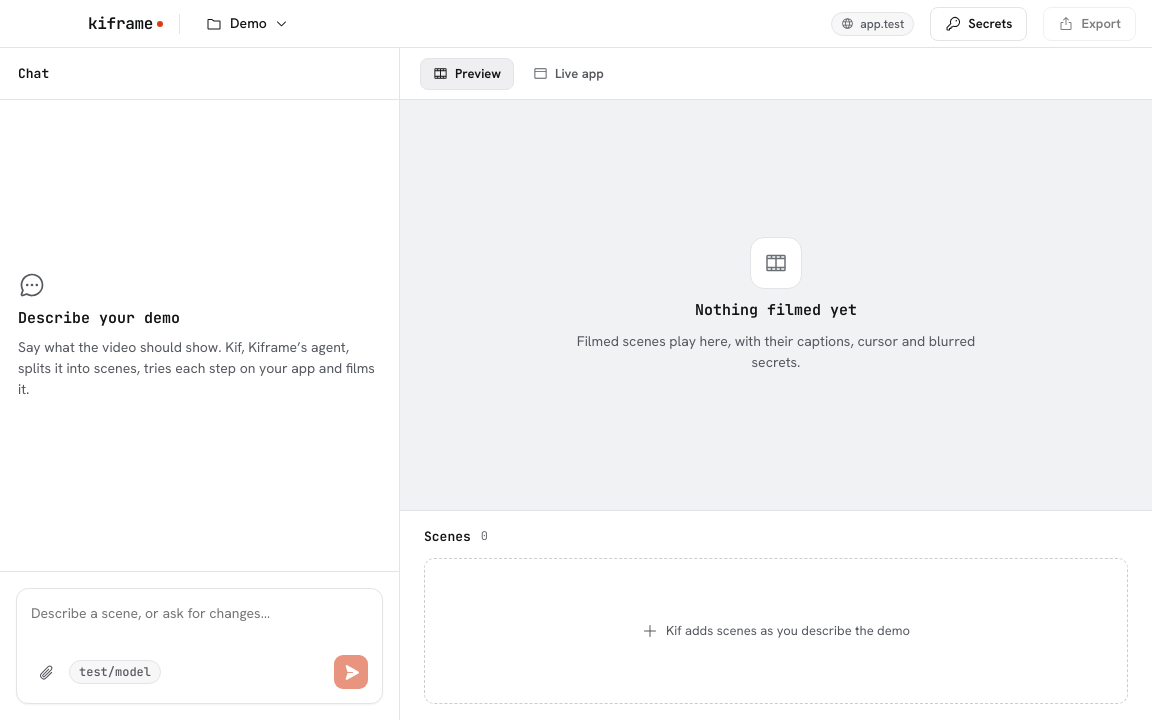
Test: the chat › keeps the message and says why when main refuses it
The width and height of the screenshot is (1152, 720).
Type "again" into the text box named "Message Kif" at x=200, y=624, box [31,603,368,645]
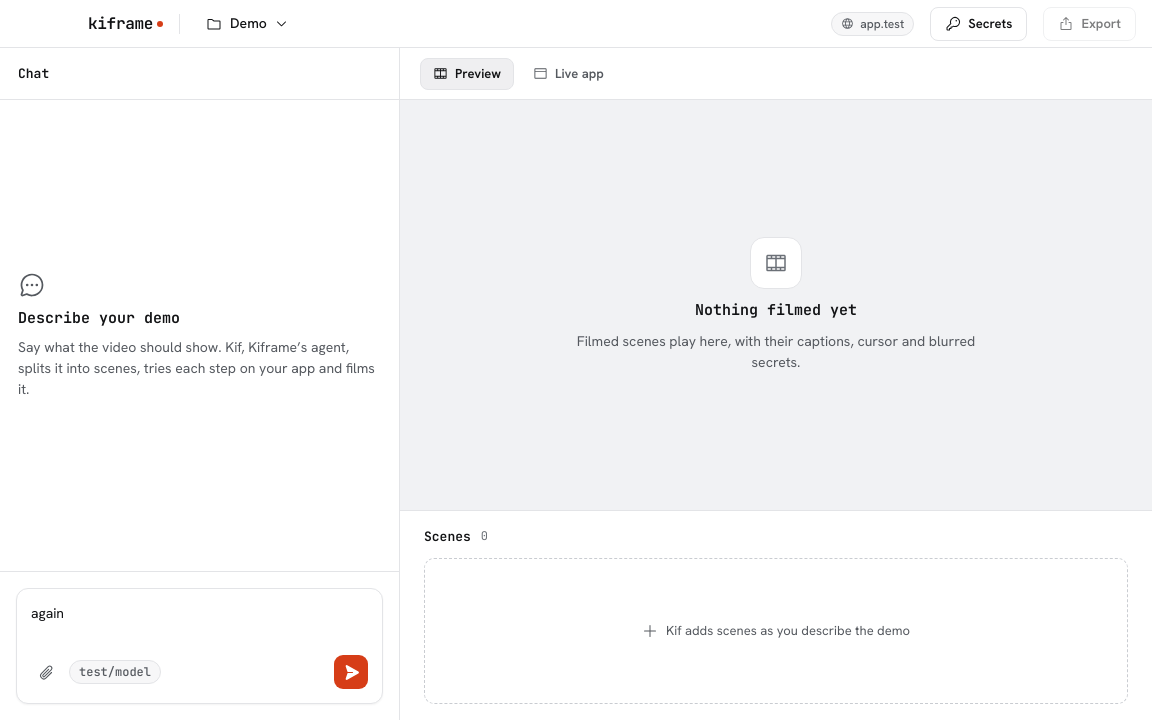
Click the button named "Send" at x=351, y=672, box [334,655,368,689]
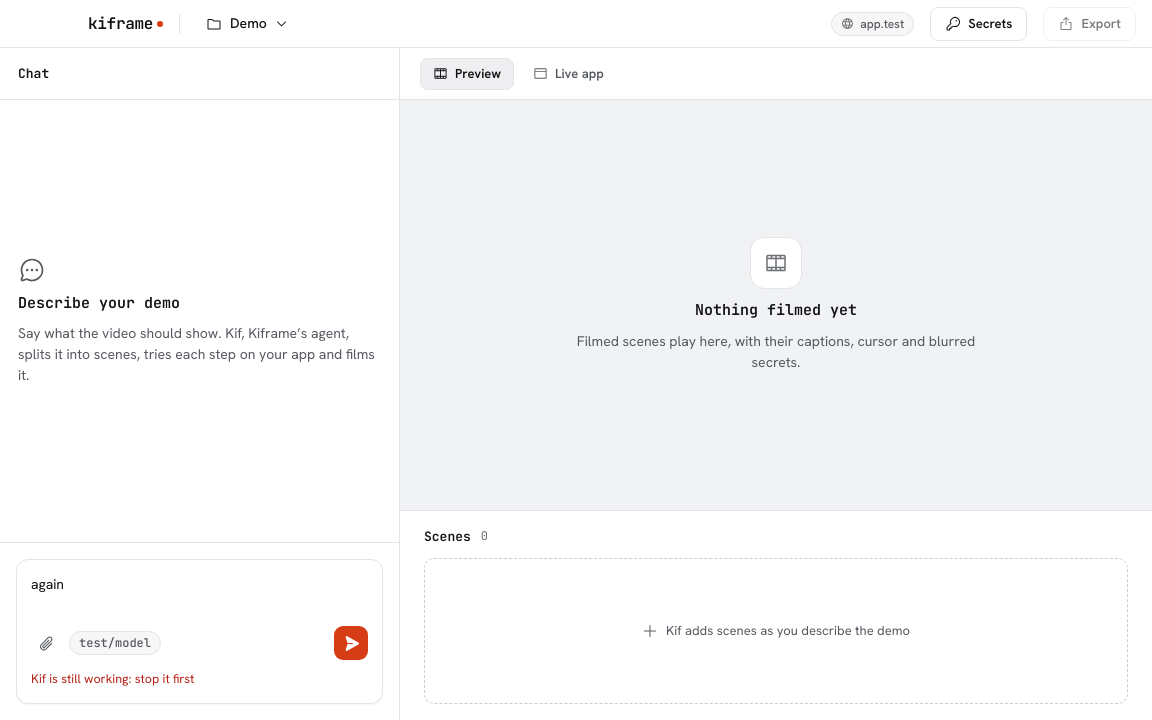
Expected: the message shows "still working", [31,670,194,687]
